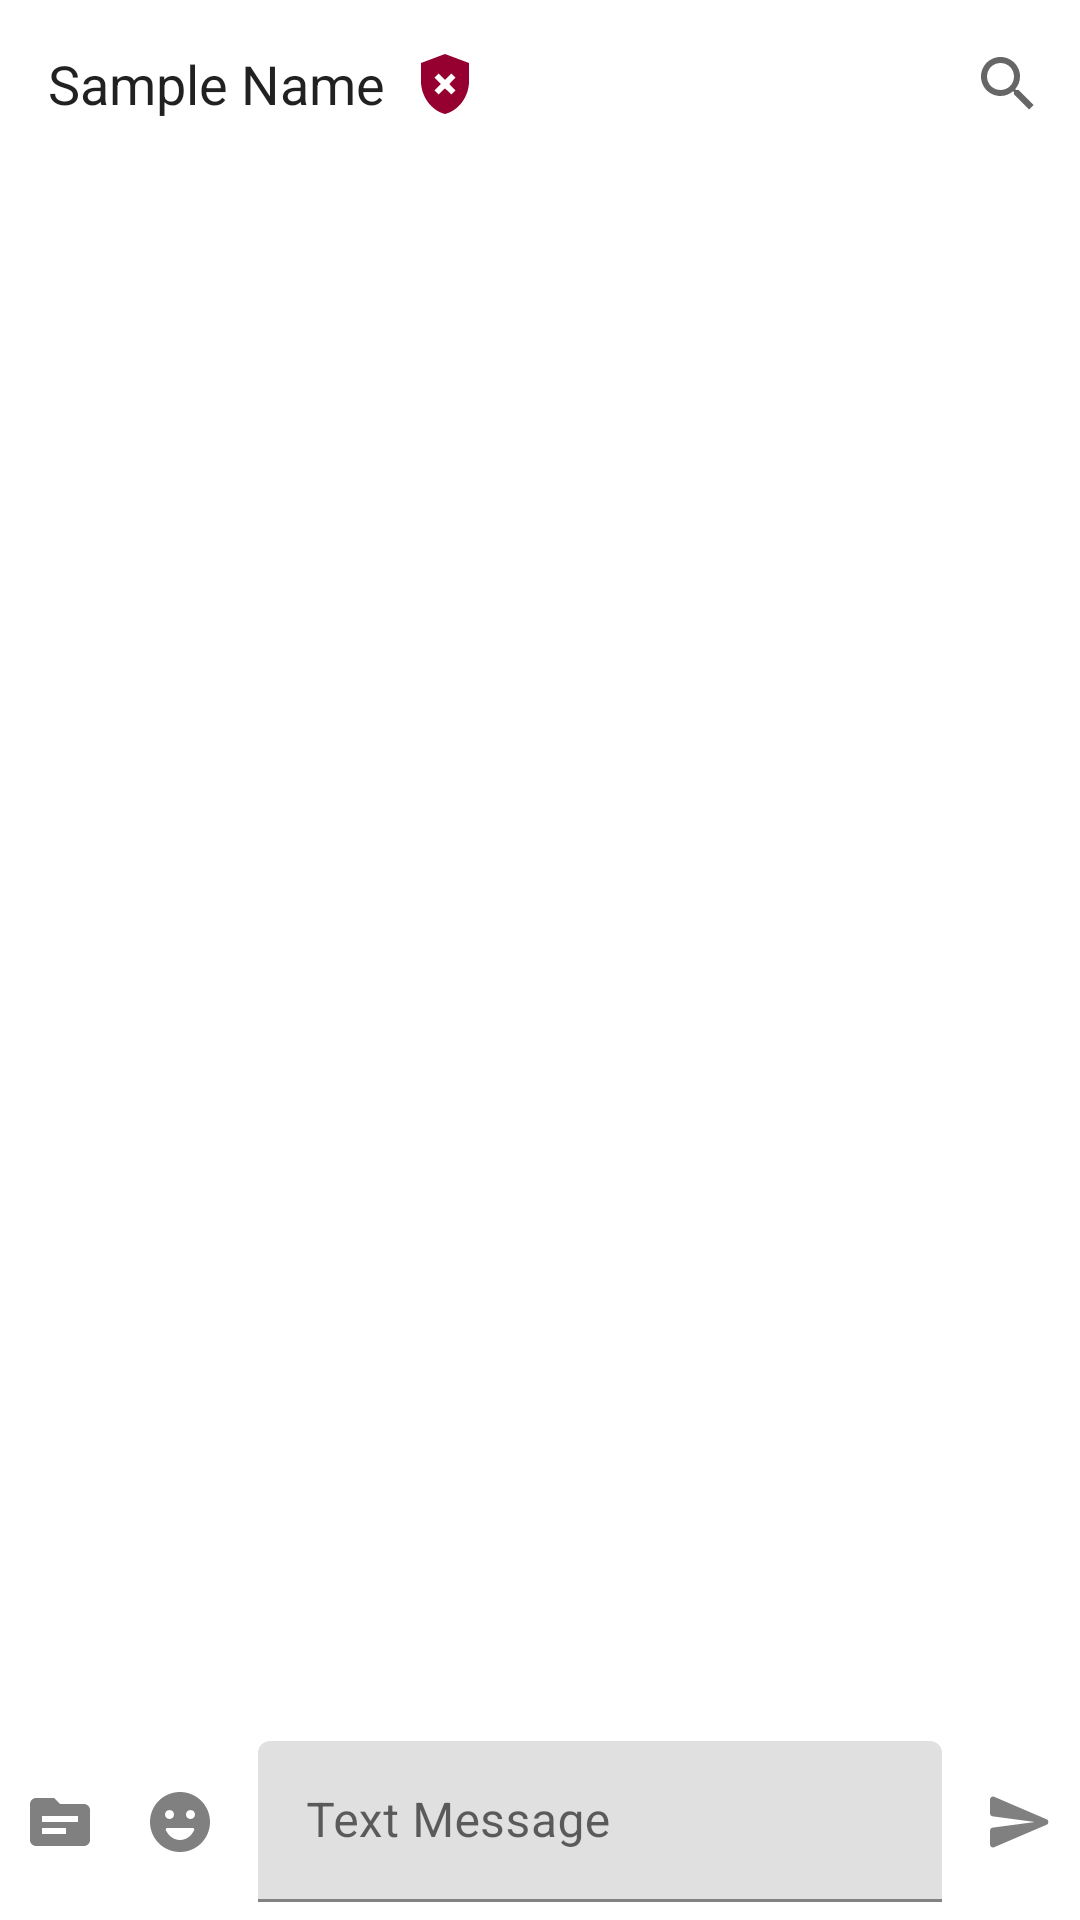

Locate icon controls on the screen. Image size 1080x1920, boxes as (x1, y1, x2, y2).
content: (30, 1798, 90, 1846)
emoji: (150, 1792, 210, 1852)
send: (990, 1796, 1049, 1848)
